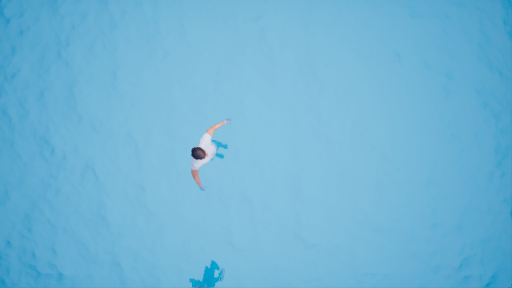person: (173, 109, 239, 184), (187, 248, 242, 287)
